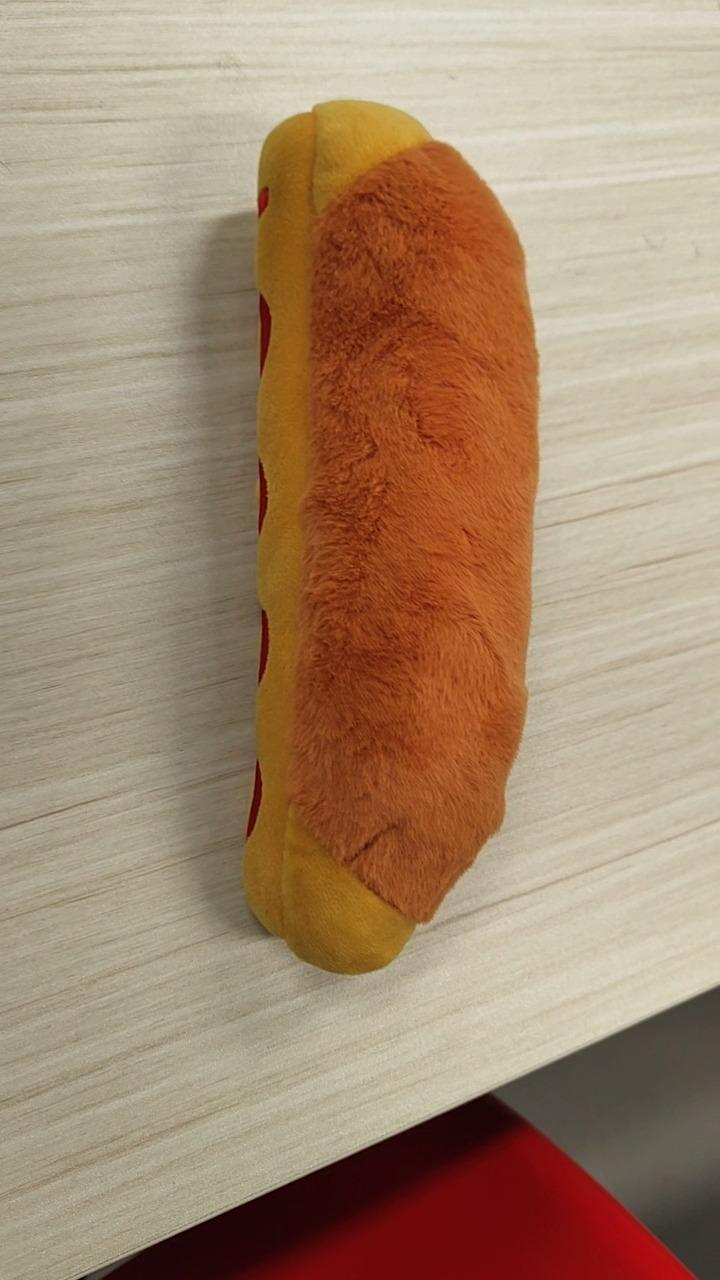hotdog: (241, 97, 540, 975)
